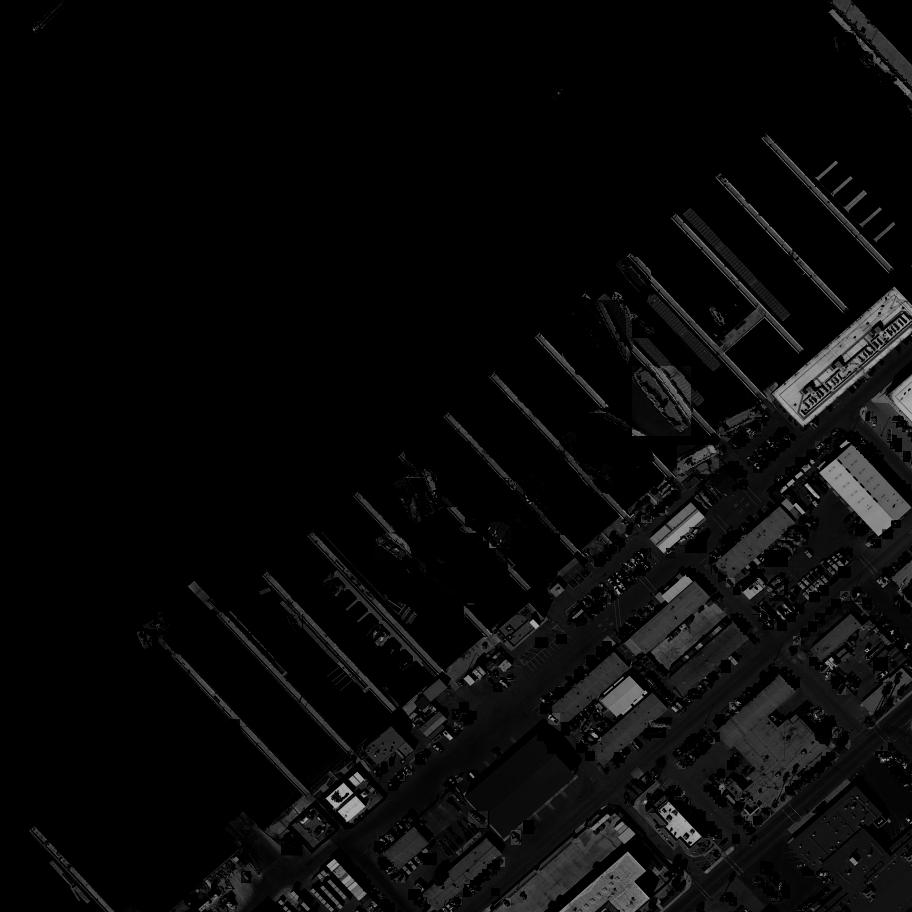large-vehicle: (685, 537, 708, 554), (547, 742, 562, 755), (584, 732, 598, 745), (588, 729, 602, 742), (423, 854, 438, 866), (581, 720, 592, 734), (582, 736, 592, 749)
ship: (413, 531, 497, 603), (406, 441, 472, 508), (490, 490, 561, 552), (632, 365, 693, 436), (560, 425, 621, 494), (517, 466, 577, 535), (576, 300, 628, 376), (577, 413, 652, 465), (457, 541, 508, 583), (391, 478, 426, 529), (405, 469, 438, 521), (612, 257, 651, 300), (719, 406, 763, 436), (678, 446, 720, 476), (374, 533, 408, 561), (403, 558, 429, 592), (438, 595, 463, 629), (489, 522, 512, 550), (632, 318, 658, 339), (612, 291, 632, 318), (484, 515, 503, 543), (708, 304, 728, 330), (764, 575, 787, 596), (281, 838, 305, 857), (787, 526, 809, 546), (772, 544, 794, 564), (764, 550, 789, 567), (769, 581, 789, 602), (866, 79, 887, 99), (469, 811, 490, 830), (877, 70, 896, 91), (870, 76, 893, 93), (465, 508, 485, 527), (136, 632, 153, 654), (840, 32, 860, 50), (286, 614, 303, 635), (316, 570, 333, 591), (157, 613, 174, 634), (143, 629, 159, 650), (150, 621, 172, 636), (838, 33, 852, 56), (220, 720, 240, 736), (328, 582, 343, 603), (776, 540, 798, 554), (549, 87, 566, 105), (395, 656, 414, 672), (385, 643, 401, 661), (368, 624, 384, 642), (374, 631, 389, 650), (779, 535, 802, 547), (873, 658, 890, 674), (833, 37, 845, 59), (320, 580, 340, 593), (858, 55, 873, 71), (649, 720, 672, 730), (645, 728, 667, 738), (864, 51, 875, 68), (33, 23, 41, 33)
small-vehicle: (838, 566, 851, 580), (510, 830, 522, 845), (796, 457, 809, 470), (523, 821, 535, 835), (781, 885, 793, 899), (875, 672, 889, 684), (498, 678, 510, 691), (548, 714, 561, 726), (467, 771, 480, 783), (703, 822, 715, 835), (759, 861, 771, 874), (408, 889, 422, 900), (805, 449, 819, 460), (614, 753, 626, 765), (586, 655, 598, 667), (536, 637, 548, 649), (380, 836, 392, 848), (487, 864, 499, 876), (494, 857, 506, 869), (691, 809, 703, 821), (715, 714, 727, 726), (723, 536, 735, 548), (882, 619, 894, 631), (720, 661, 731, 674), (374, 842, 387, 853), (241, 871, 252, 884), (727, 531, 738, 544), (858, 594, 869, 607), (540, 704, 553, 715), (858, 529, 871, 540), (893, 595, 904, 608), (832, 728, 843, 741), (432, 744, 444, 755), (415, 755, 427, 766), (614, 571, 625, 583), (397, 821, 408, 833), (414, 893, 425, 905), (882, 529, 894, 540), (815, 441, 826, 453), (901, 485, 912, 497), (695, 812, 706, 824), (821, 756, 833, 767), (847, 432, 859, 443), (746, 687, 757, 699), (686, 737, 697, 749), (565, 677, 576, 689), (596, 647, 608, 658), (900, 603, 911, 615), (711, 829, 722, 841), (861, 444, 873, 455), (751, 570, 764, 580), (561, 723, 571, 736), (856, 524, 866, 537), (748, 836, 758, 849), (636, 551, 647, 562), (632, 554, 643, 565), (630, 557, 641, 568), (641, 608, 652, 619), (630, 617, 641, 628), (465, 884, 476, 895), (872, 539, 883, 550), (820, 585, 831, 596), (689, 529, 700, 540), (666, 548, 677, 559), (831, 428, 842, 439), (688, 806, 699, 817), (675, 792, 686, 803), (769, 668, 780, 679), (690, 735, 701, 746), (739, 433, 750, 444), (755, 420, 766, 431), (765, 452, 776, 463), (814, 710, 825, 721), (831, 600, 842, 611), (897, 756, 908, 767), (869, 452, 880, 463), (419, 751, 429, 763), (395, 773, 407, 783), (640, 548, 652, 558), (556, 635, 568, 645), (388, 780, 398, 792), (816, 614, 826, 626), (391, 872, 403, 882), (732, 614, 744, 624), (786, 613, 798, 623), (706, 827, 718, 837), (809, 768, 821, 778), (471, 880, 481, 892), (852, 435, 862, 447), (682, 798, 692, 810), (576, 743, 588, 753), (574, 669, 584, 681), (899, 775, 911, 785), (735, 437, 747, 447), (768, 449, 780, 459), (863, 598, 873, 610), (810, 707, 822, 717), (875, 752, 887, 762), (636, 564, 646, 576), (592, 603, 602, 615), (688, 690, 701, 699), (766, 863, 775, 876), (891, 768, 904, 777), (896, 438, 904, 452), (539, 696, 550, 706), (503, 899, 514, 909), (448, 778, 459, 788), (625, 561, 636, 571), (621, 564, 632, 574), (640, 562, 650, 573), (598, 584, 609, 594), (626, 620, 636, 631), (448, 900, 459, 910), (385, 863, 395, 874), (378, 895, 388, 906), (853, 587, 863, 598), (810, 593, 821, 603), (777, 621, 787, 632), (763, 620, 774, 630), (761, 456, 771, 467), (753, 463, 763, 474), (747, 456, 758, 466), (785, 467, 796, 477), (805, 771, 816, 781), (790, 783, 800, 794), (794, 781, 805, 791), (819, 715, 829, 726), (710, 732, 721, 742), (743, 822, 753, 833), (709, 787, 719, 798), (595, 724, 605, 735), (586, 751, 596, 762), (732, 834, 743, 844), (460, 702, 470, 713), (483, 869, 493, 880), (882, 568, 893, 578), (555, 687, 565, 698), (594, 558, 605, 568), (742, 523, 753, 533), (727, 761, 737, 772), (734, 699, 745, 709), (742, 692, 753, 702), (730, 702, 740, 713), (595, 600, 605, 611), (718, 571, 729, 581), (824, 436, 835, 446), (549, 691, 558, 703), (451, 709, 460, 721), (364, 879, 373, 891), (785, 787, 797, 796), (760, 675, 772, 684), (641, 516, 653, 525), (694, 747, 706, 756), (735, 471, 748, 479), (890, 747, 898, 760), (605, 591, 615, 601), (629, 572, 639, 582), (405, 765, 415, 775), (793, 636, 803, 646), (841, 591, 851, 601), (380, 861, 390, 871), (396, 874, 406, 884), (681, 536, 691, 546), (687, 569, 697, 579), (744, 626, 754, 636), (707, 736, 717, 746), (468, 711, 478, 721), (829, 726, 839, 736), (749, 636, 759, 646), (663, 498, 673, 508), (698, 744, 708, 754), (889, 627, 899, 637), (810, 657, 820, 667), (730, 758, 740, 768), (821, 665, 831, 675), (585, 596, 595, 606), (726, 579, 736, 589), (463, 715, 472, 726), (619, 749, 628, 760), (537, 732, 548, 741), (648, 602, 659, 611), (606, 547, 615, 558), (388, 868, 399, 877), (795, 606, 806, 615), (775, 476, 786, 485), (854, 594, 865, 603), (678, 797, 689, 806), (827, 752, 836, 763), (713, 790, 722, 801), (668, 786, 679, 795), (579, 666, 588, 677), (475, 877, 484, 888), (743, 431, 754, 440), (720, 539, 729, 550), (735, 530, 744, 541), (729, 897, 738, 908), (832, 681, 843, 690), (792, 679, 801, 690), (713, 774, 722, 785), (837, 684, 846, 695), (891, 632, 902, 641), (800, 628, 811, 637), (809, 621, 818, 632), (609, 545, 620, 554), (895, 772, 906, 781), (750, 425, 761, 434), (865, 450, 876, 459), (856, 437, 864, 449), (752, 878, 764, 886), (769, 871, 777, 883), (904, 451, 912, 463), (890, 436, 897, 449), (493, 684, 503, 693), (602, 642, 612, 651), (619, 628, 629, 637), (614, 586, 623, 596), (419, 898, 428, 908), (613, 542, 622, 552), (759, 417, 768, 427), (732, 440, 741, 450), (758, 460, 768, 469), (755, 449, 764, 459), (762, 443, 772, 452), (739, 480, 748, 490), (802, 774, 811, 784), (599, 554, 608, 564), (737, 619, 747, 628), (740, 622, 750, 631), (765, 672, 775, 681), (672, 789, 682, 798), (758, 614, 768, 623), (594, 713, 604, 722), (718, 769, 727, 779), (790, 647, 799, 657), (454, 897, 463, 907), (618, 538, 627, 548), (672, 490, 682, 499), (714, 595, 724, 604), (752, 606, 762, 615), (764, 887, 774, 896), (719, 798, 728, 808), (754, 816, 763, 826), (762, 809, 772, 818), (687, 753, 696, 763), (787, 676, 797, 685), (815, 662, 825, 671), (831, 676, 840, 686), (785, 672, 794, 682), (878, 616, 887, 626), (825, 607, 834, 617), (591, 589, 601, 598), (890, 563, 899, 573), (600, 597, 608, 608), (492, 861, 500, 872), (712, 564, 720, 575), (857, 443, 868, 451), (684, 741, 692, 752), (739, 527, 747, 538), (734, 817, 745, 825), (866, 411, 873, 423), (455, 723, 464, 732), (378, 857, 387, 866), (709, 553, 718, 562), (751, 453, 760, 462), (777, 444, 786, 453), (758, 447, 767, 456), (679, 761, 688, 770), (733, 753, 742, 762), (733, 586, 742, 595), (902, 643, 911, 652), (886, 625, 895, 634), (459, 719, 467, 729), (604, 595, 612, 605), (604, 552, 612, 562), (780, 441, 790, 449), (479, 874, 489, 882), (491, 889, 501, 897), (650, 509, 660, 517), (713, 550, 721, 560), (726, 892, 734, 902), (758, 882, 768, 890), (825, 671, 833, 681), (594, 587, 604, 595), (902, 553, 910, 563), (749, 426, 756, 437), (658, 501, 669, 508), (821, 877, 832, 884), (619, 583, 627, 592), (464, 888, 472, 897), (892, 521, 901, 529), (772, 446, 781, 454), (715, 796, 724, 804), (895, 636, 904, 644), (887, 568, 896, 576), (588, 607, 596, 616), (777, 431, 786, 439), (898, 558, 907, 566), (589, 593, 596, 603), (627, 575, 634, 585), (374, 890, 381, 900), (704, 786, 714, 793), (656, 506, 666, 513), (798, 865, 808, 872), (877, 613, 884, 623), (381, 762, 387, 773), (871, 417, 877, 428), (667, 496, 678, 502), (767, 892, 778, 898), (817, 872, 828, 878), (775, 873, 780, 886), (784, 436, 792, 444), (766, 441, 774, 449), (676, 749, 684, 757), (582, 599, 589, 608), (770, 435, 777, 444), (802, 871, 814, 876), (774, 434, 782, 441), (370, 885, 375, 896), (887, 430, 892, 441), (383, 901, 388, 911), (897, 423, 907, 428), (729, 461, 739, 466), (893, 417, 903, 422), (779, 881, 784, 891), (880, 758, 890, 763), (888, 743, 892, 755), (378, 769, 383, 777), (770, 897, 780, 901), (887, 765, 897, 769), (390, 758, 394, 766), (886, 762, 894, 766), (896, 751, 899, 761)
